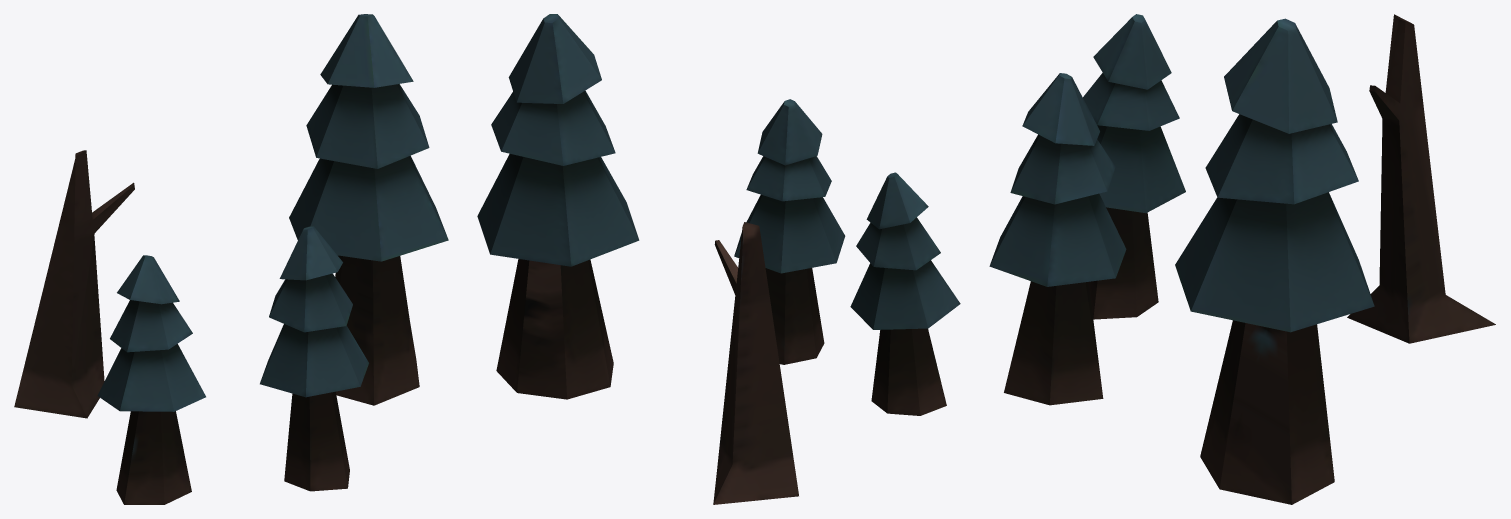
Rendered from tile_wood_1_lod2.fbx.
3 views of the same model, side by side, from view 1: azimuth 30°, elevation 25°; view 2: azimuth 150°, elevation 25°; view 3: azimuth 270°, elevation 25° (orthographic). The views are drawn at different scales.
Parts seen in each view (by area): view 1: wood_1_lod2; view 2: wood_1_lod2; view 3: wood_1_lod2.
Boxes of the visible parts, x1,y1,x2,y2 form: wood_1_lod2: (14,14,448,504); wood_1_lod2: (477,14,960,504); wood_1_lod2: (989,14,1495,504).
Bounding box in the file's own units: 0.0527 × 0.0458 × 0.0466.
